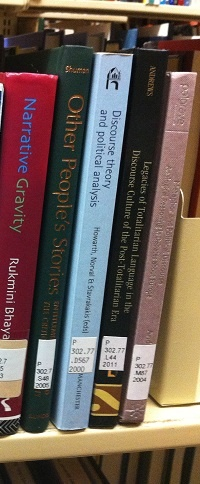call_number: (130, 341, 156, 399), (70, 334, 96, 374), (101, 333, 126, 373), (33, 340, 53, 389)
